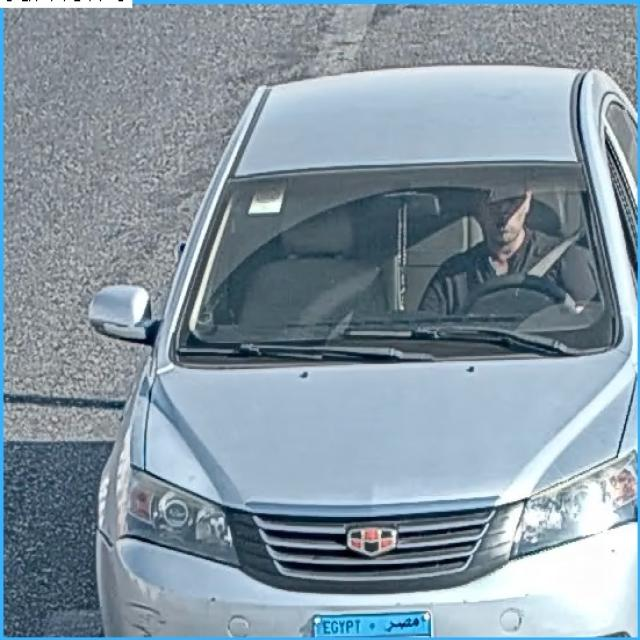windshield: (192, 178, 619, 344)
